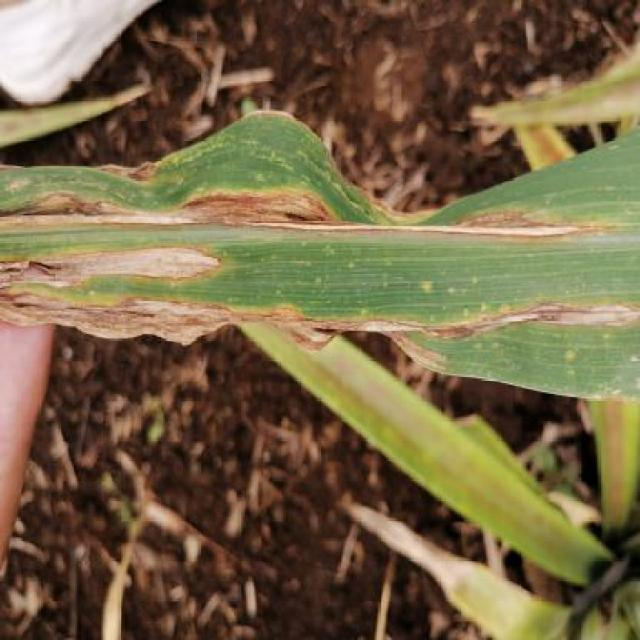Corn_Leaf_Blight: (3, 109, 640, 405)
